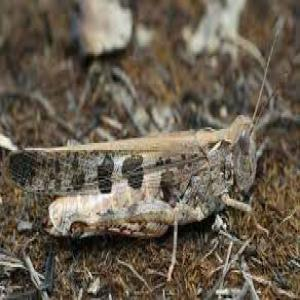locust: (11, 78, 275, 257)
